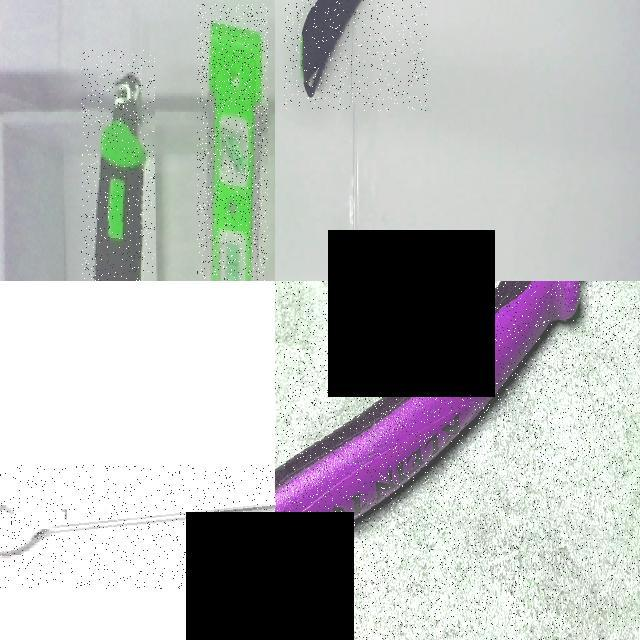estilete: (96, 73, 146, 278)
